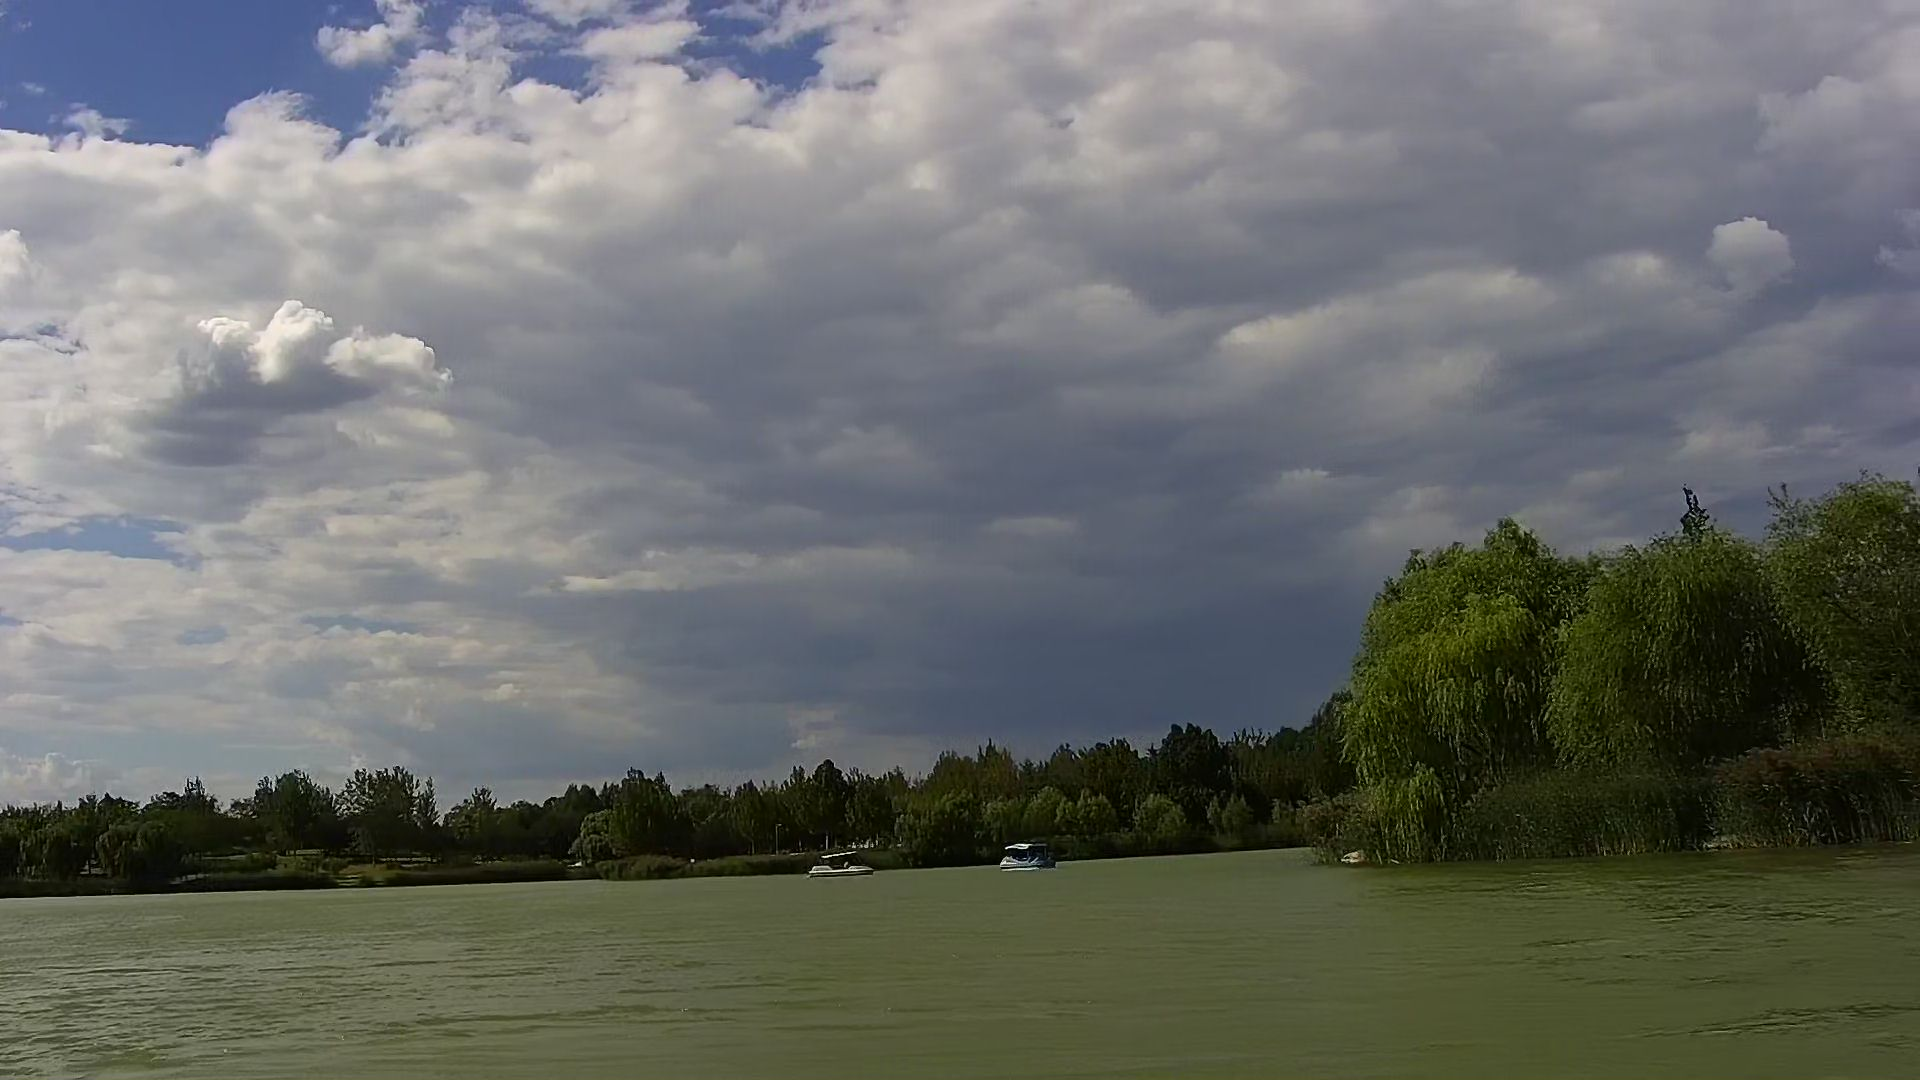boat: (806, 851, 876, 880), (1000, 841, 1055, 873)
rock: (1338, 849, 1367, 865)
